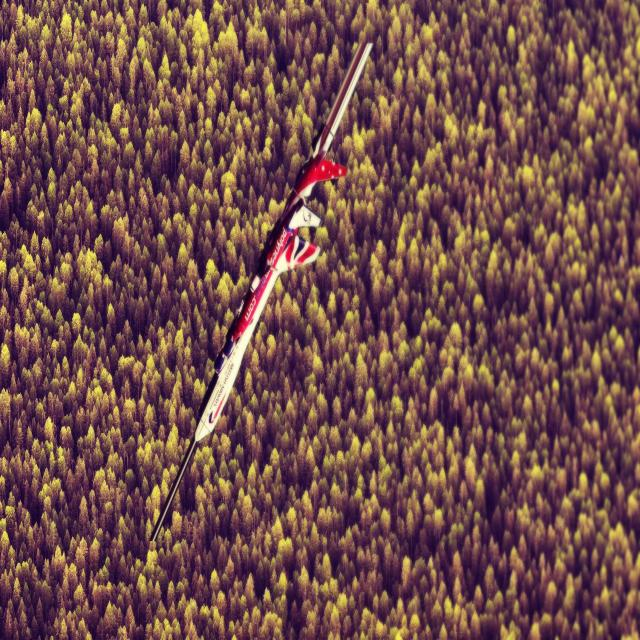airplane: (148, 39, 374, 544)
